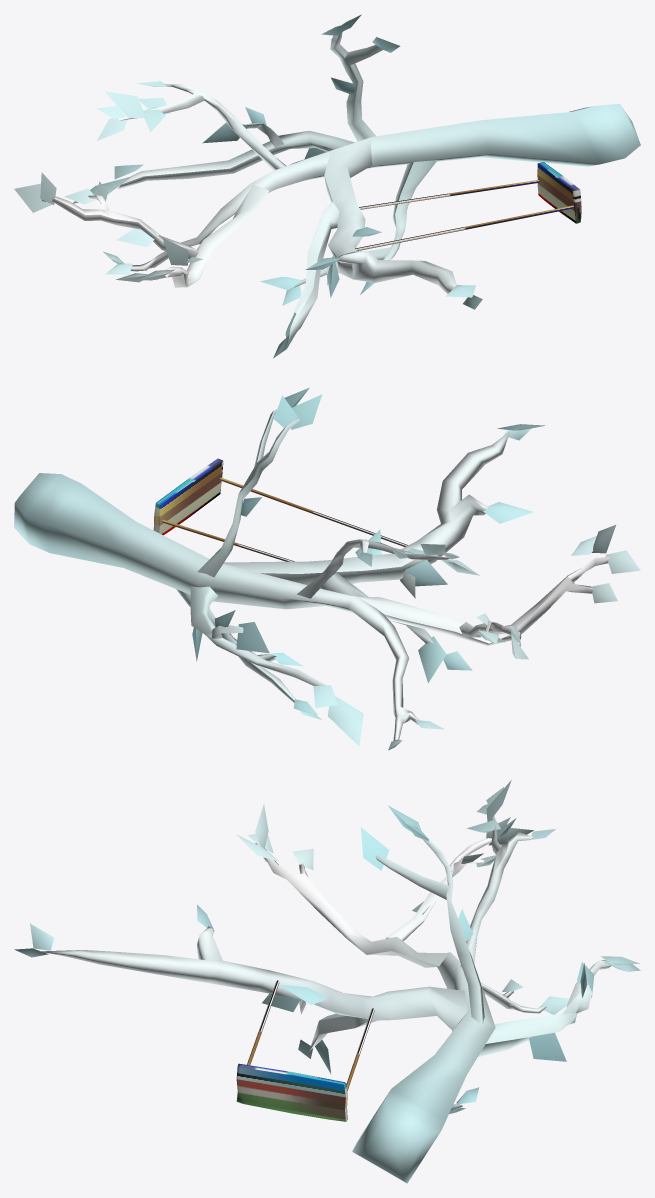
Rendered from CharSkyKid_Prop_BlueSwing.glb.
3 views of the same model, one above another, from view 1: azimuth 30°, elevation 25°; view 2: azimuth 150°, elevation 25°; view 3: azimuth 270°, elevation 25° (orthographic). The views are drawn at different scales.
Parts seen in each view (by area): view 1: CharSkyKid_Prop_BlueSwing; view 2: CharSkyKid_Prop_BlueSwing; view 3: CharSkyKid_Prop_BlueSwing.
Boxes of the visible parts, x1,y1,x2,y2 form: CharSkyKid_Prop_BlueSwing: [14, 14, 640, 358]; CharSkyKid_Prop_BlueSwing: [14, 387, 640, 750]; CharSkyKid_Prop_BlueSwing: [14, 780, 640, 1183].
Bounding box in the file's own units: 5.12 × 2.58 × 4.57.
1 material, 1 textured.
